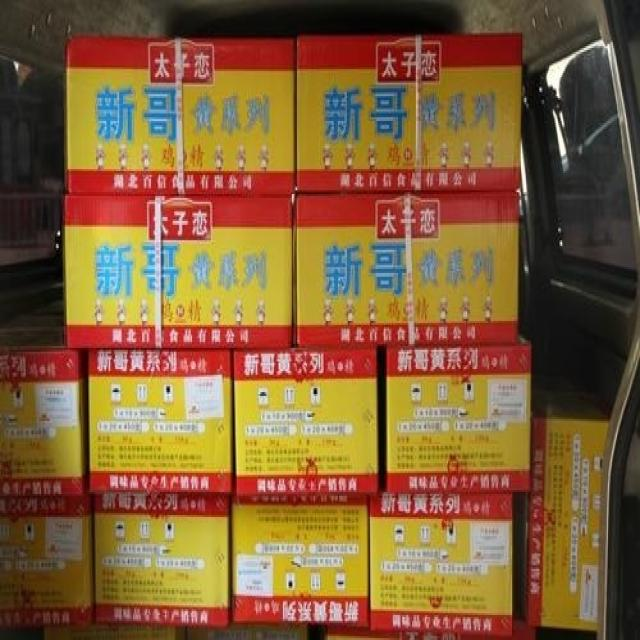box: (66, 35, 296, 194), (296, 32, 522, 192), (65, 196, 292, 348), (295, 193, 518, 346), (385, 333, 530, 491), (515, 383, 607, 632), (234, 345, 378, 497), (89, 352, 234, 493), (0, 275, 91, 498), (370, 493, 511, 635), (94, 491, 230, 629), (231, 494, 370, 629), (0, 491, 93, 632)
